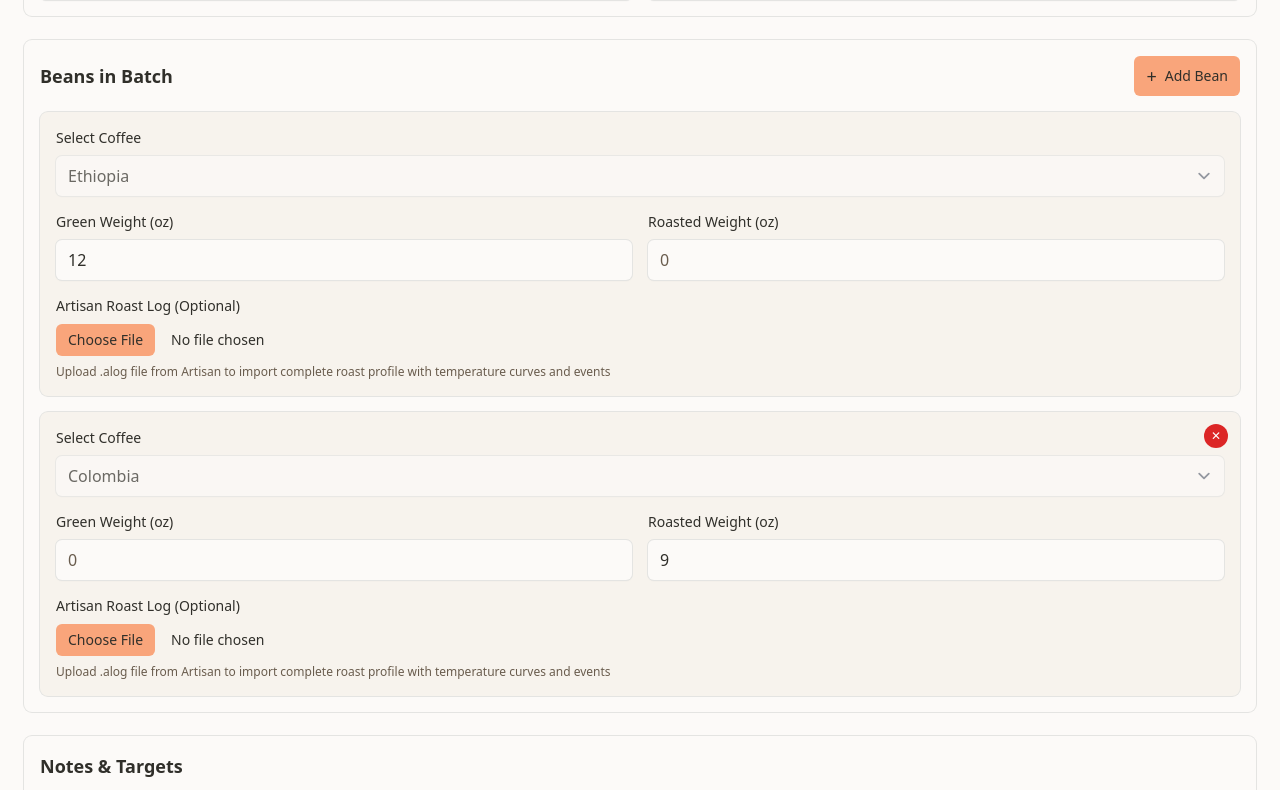
Scenario: RoastProfileForm recovery › restores the exact persisted payload and retries it without editing
This screenshot has width=1280, height=790.
(page scrolled)
Expected: the number of dropdowns labelled "Select Coffee" is 2, x1=56 y1=156 x2=1224 y2=196; x1=56 y1=456 x2=1224 y2=496
Expected: the 1st number field labelled "Green Weight (oz)" holds "12", x1=56 y1=240 x2=632 y2=280
Submit the form
(page scrolled)
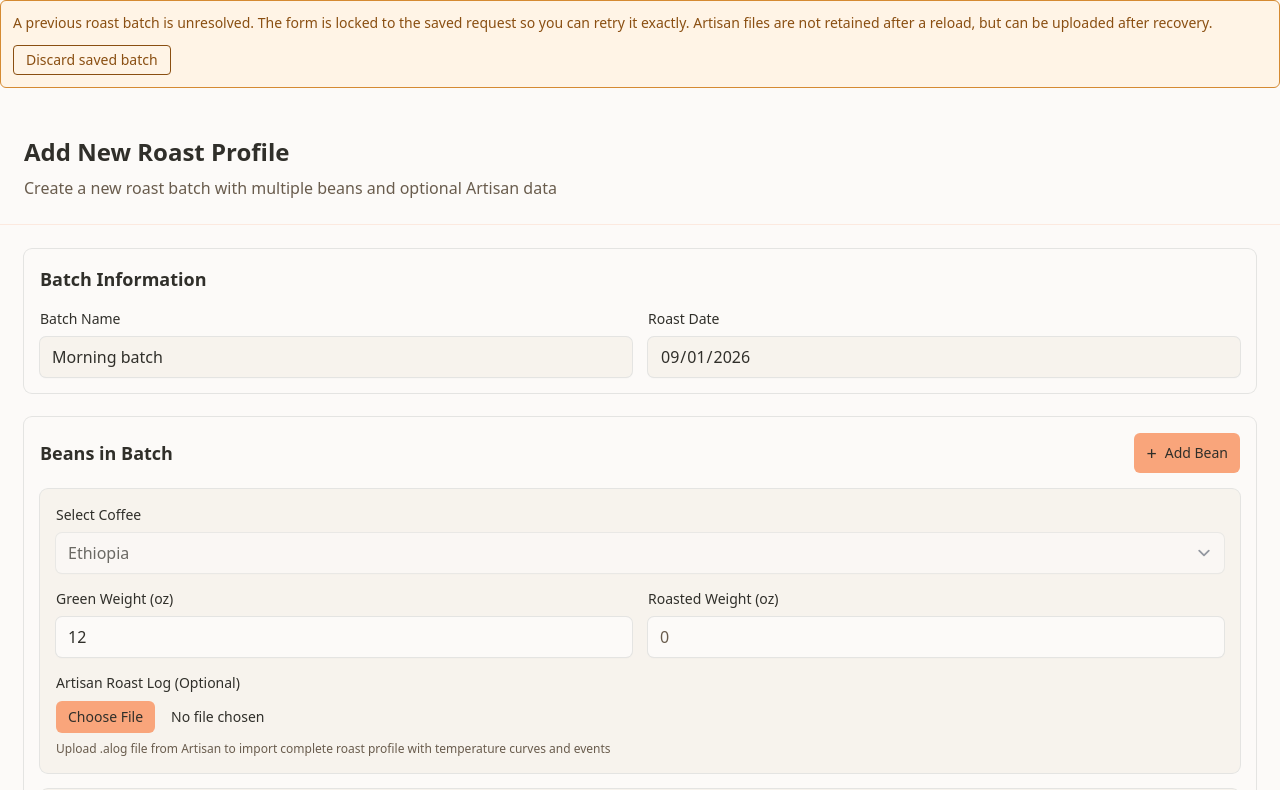
Click the button "Discard saved batch".
click(92, 60)  # box x1=13 y1=45 x2=171 y2=75
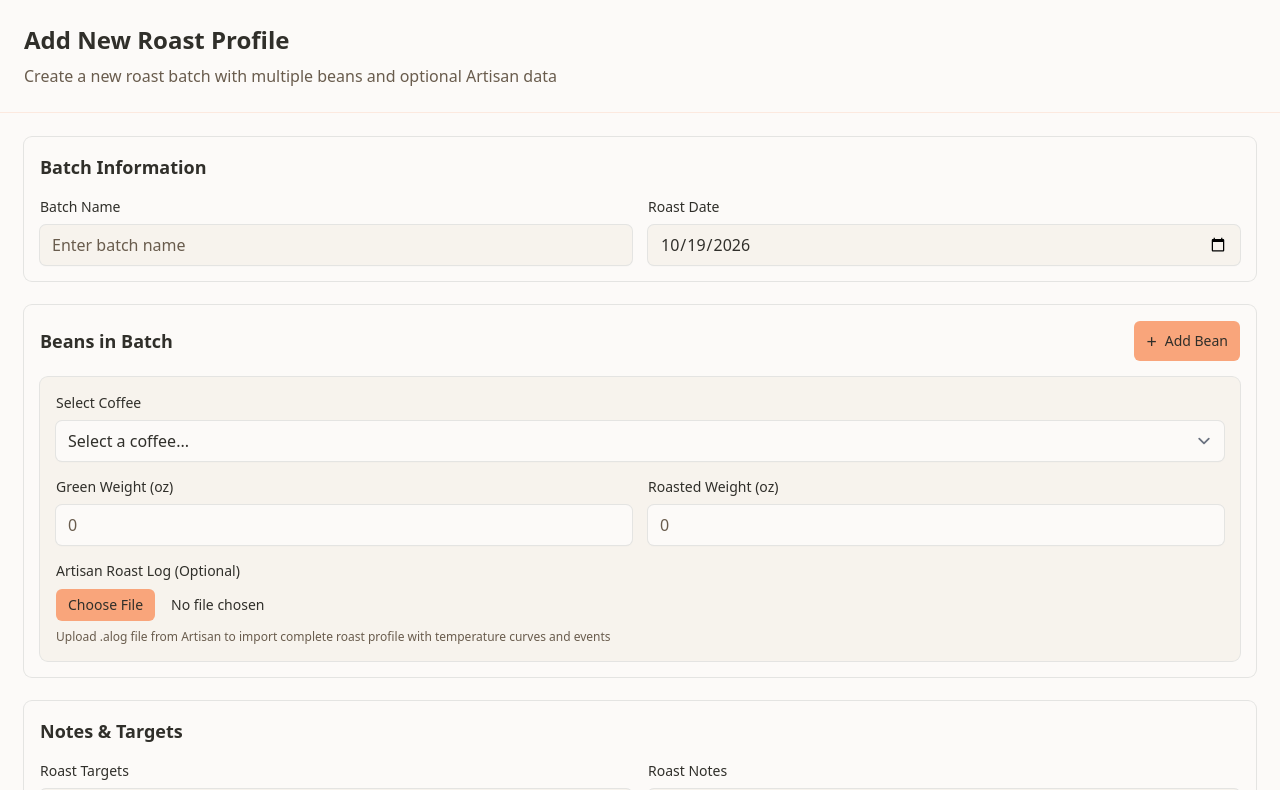
Expected: the text "retry it exactly" is gone
Expected: the field labelled "Batch Name" is enabled, x1=40 y1=225 x2=632 y2=265
